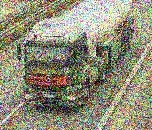truck: (16, 0, 135, 109)
